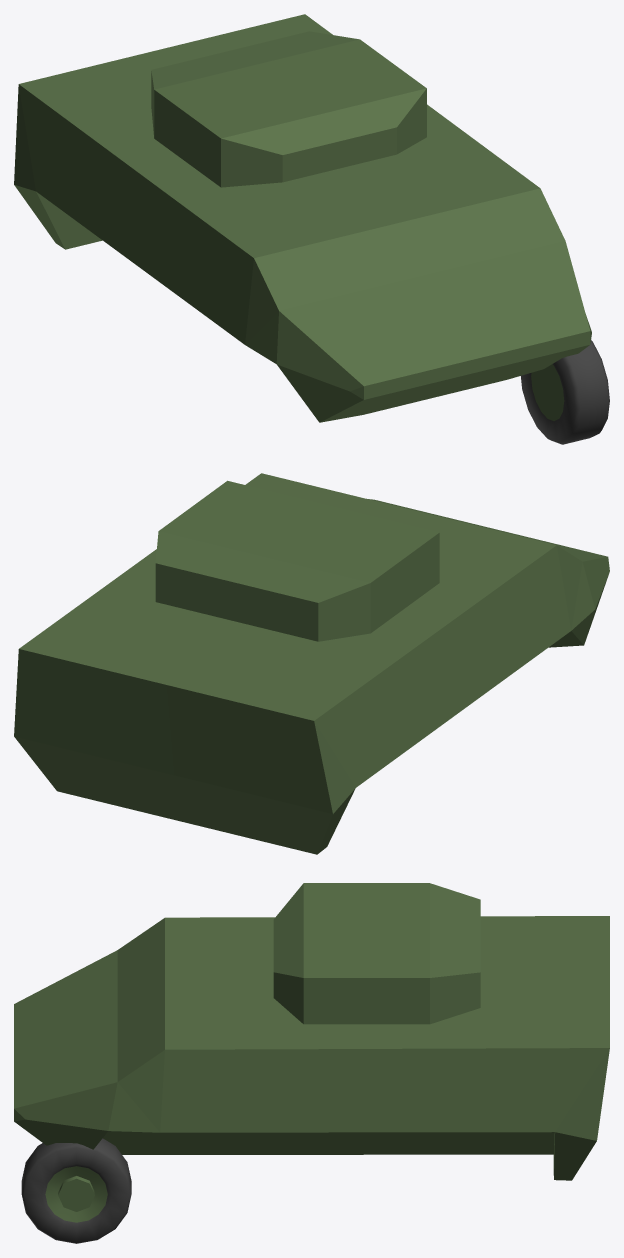
File: LAV 1.fbx
3 renders of one model, top to bottom at view 1: azimuth 30°, elevation 25°; view 2: azimuth 150°, elevation 25°; view 3: azimuth 270°, elevation 25°, orthographic. The views are drawn at different scales.
Parts seen in each view (by area): view 1: chassis, turret, wheel; view 2: chassis, turret; view 3: chassis, turret, wheel.
Boxes of the visible parts, x1,y1,x2,y2 form: chassis: [14, 14, 591, 422]; turret: [151, 31, 426, 187]; wheel: [521, 340, 609, 444]; chassis: [14, 473, 609, 854]; turret: [155, 480, 439, 641]; chassis: [14, 916, 609, 1180]; turret: [273, 883, 480, 1024]; wheel: [21, 1138, 131, 1243].
Bounding box in the file's own units: 540 × 443 × 953.
